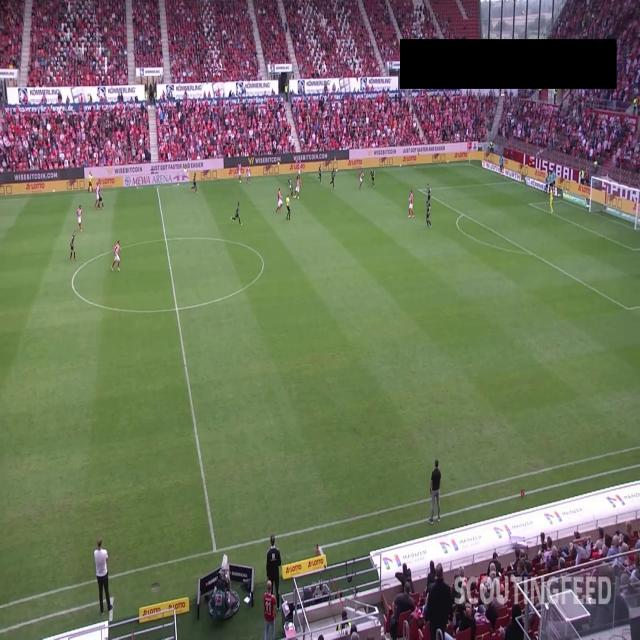Ball: (293, 196, 296, 198)
GoalKeeper: (549, 187, 555, 214)
Referee: (87, 171, 94, 194), (286, 196, 292, 220)
TEAM 1: (110, 240, 122, 272), (408, 190, 415, 220), (76, 205, 83, 232), (276, 188, 283, 212), (95, 182, 102, 206), (295, 176, 301, 199), (359, 170, 365, 189), (237, 160, 242, 182), (246, 164, 251, 185), (297, 160, 301, 177)
TEAM 2: (230, 201, 242, 227), (70, 231, 78, 261), (190, 172, 198, 195), (426, 201, 432, 229), (329, 168, 336, 192), (98, 186, 105, 210), (426, 183, 432, 210), (288, 176, 294, 198), (370, 168, 376, 188), (318, 163, 323, 183)
